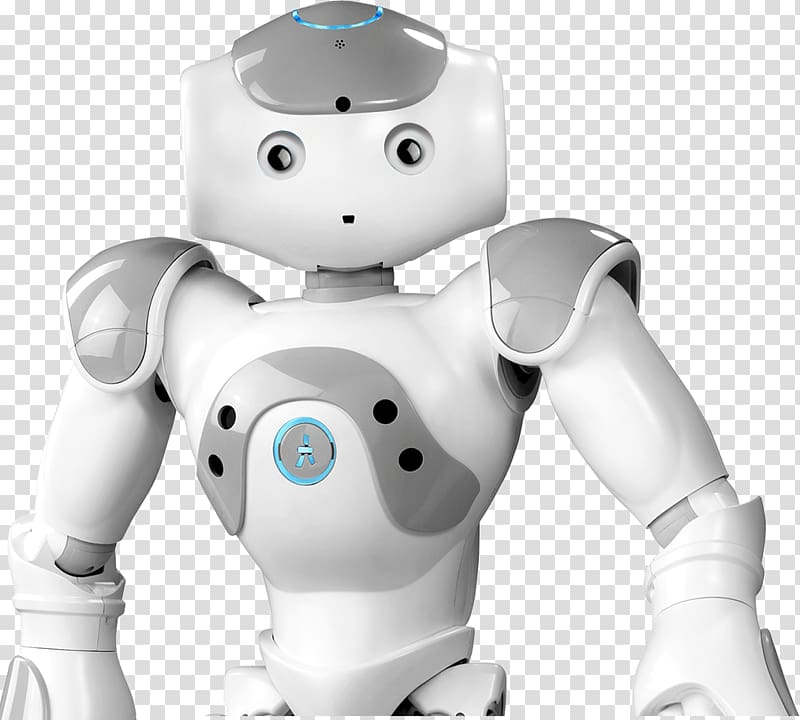nao: (1, 2, 794, 715)
